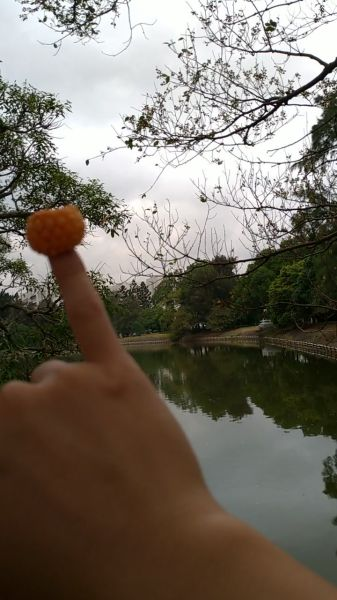eggs: (26, 203, 85, 255)
